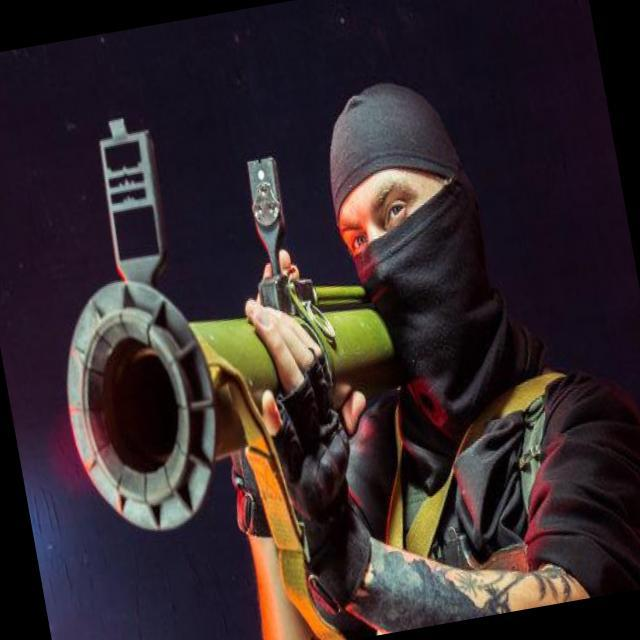rocket: (20, 83, 382, 538)
